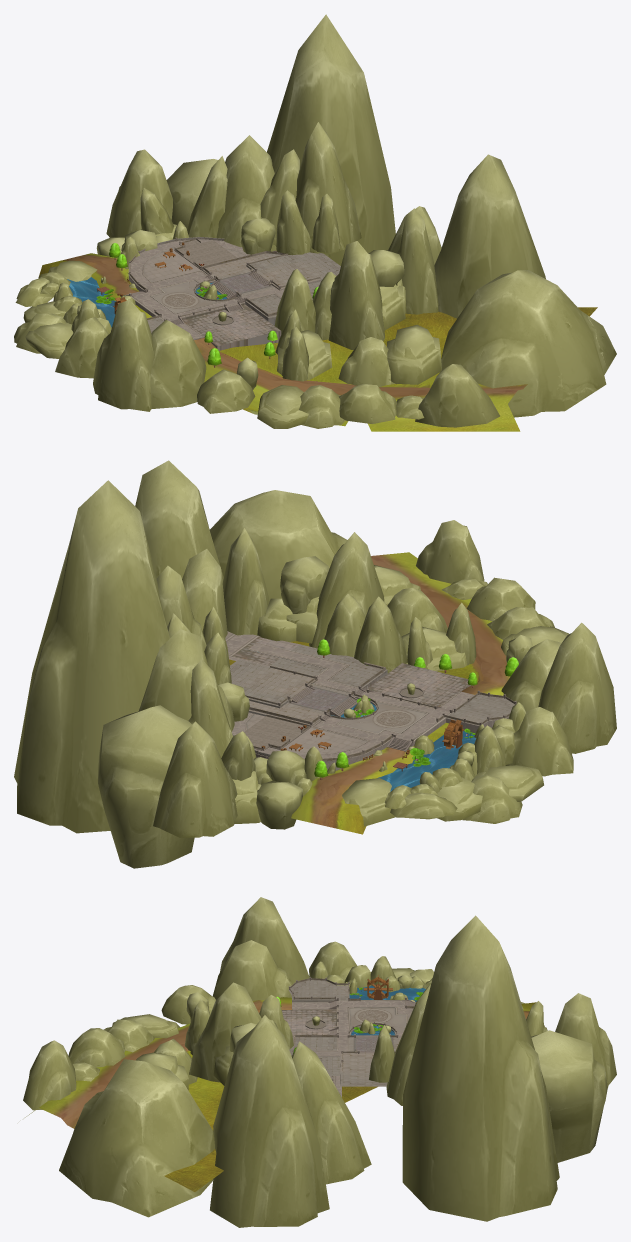
Rendered from zhucheng_test.FBX.
The picture shows the model from 3 angles, top to bottom: view 1: azimuth 30°, elevation 25°; view 2: azimuth 150°, elevation 25°; view 3: azimuth 270°, elevation 25°; orthographic projection. The views are drawn at different scales.
Visible parts, largest first — view 1: 02, 03; view 2: 02, 03; view 3: 02, 03.
Boxes of the visible parts, left/top/right/bottom form: 02: left=14, top=14, right=616, bottom=431; 03: left=67, top=237, right=340, bottom=350; 02: left=14, top=460, right=616, bottom=868; 03: left=225, top=631, right=516, bottom=791; 02: left=23, top=897, right=616, bottom=1227; 03: left=281, top=977, right=425, bottom=1096.
Bounding box in the file's own units: 218 × 248 × 123.
